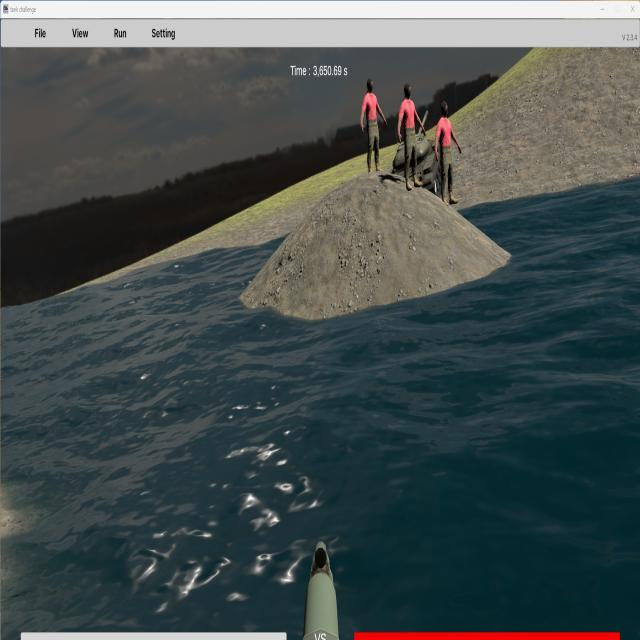Human: (398, 83, 426, 189), (434, 100, 461, 206), (361, 79, 387, 176)
